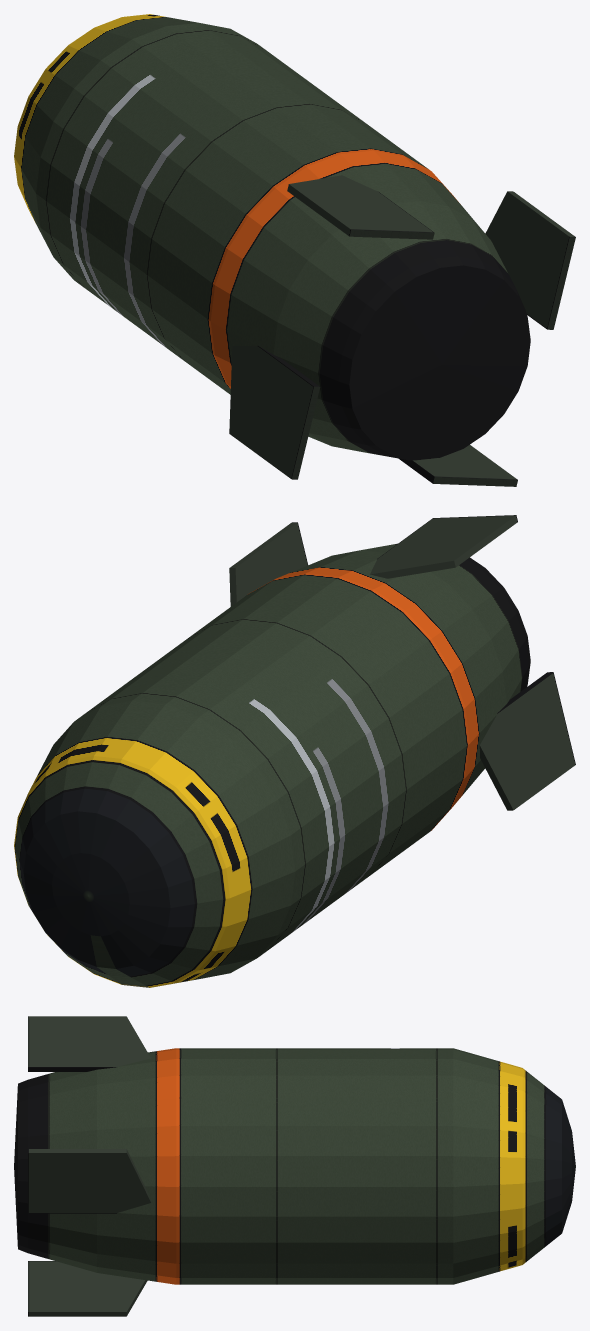
The model's file is Zhdan_Mine.fbx.
The picture shows the model from 3 angles, top to bottom: view 1: azimuth 30°, elevation 25°; view 2: azimuth 150°, elevation 25°; view 3: azimuth 270°, elevation 25°; orthographic projection. The views are drawn at different scales.
Visible parts, largest first — view 1: Zhdan_Mine_Container, Zhdan_Fin_4, Zhdan_Fin_2, Zhdan_Fin_1, Zhdan_Fin_3; view 2: Zhdan_Mine_Container, Zhdan_Fin_4, Zhdan_Fin_1, Zhdan_Fin_2; view 3: Zhdan_Mine_Container, Zhdan_Fin_2, Zhdan_Fin_1, Zhdan_Fin_3.
Boxes of the visible parts, x1,y1,x2,y2 form: Zhdan_Mine_Container: (14, 14, 530, 460); Zhdan_Fin_4: (229, 346, 320, 479); Zhdan_Fin_2: (485, 191, 575, 329); Zhdan_Fin_1: (287, 175, 434, 239); Zhdan_Fin_3: (399, 445, 517, 486); Zhdan_Mine_Container: (14, 543, 530, 987); Zhdan_Fin_4: (479, 672, 575, 810); Zhdan_Fin_1: (370, 515, 517, 578); Zhdan_Fin_2: (229, 522, 307, 606); Zhdan_Mine_Container: (14, 1048, 575, 1284); Zhdan_Fin_2: (28, 1149, 150, 1213); Zhdan_Fin_1: (28, 1016, 150, 1071); Zhdan_Fin_3: (28, 1261, 147, 1316).
Bounding box in the file's own units: 0.1316 × 0.1316 × 0.284.
Materials: 1 (1 with a texture image).
